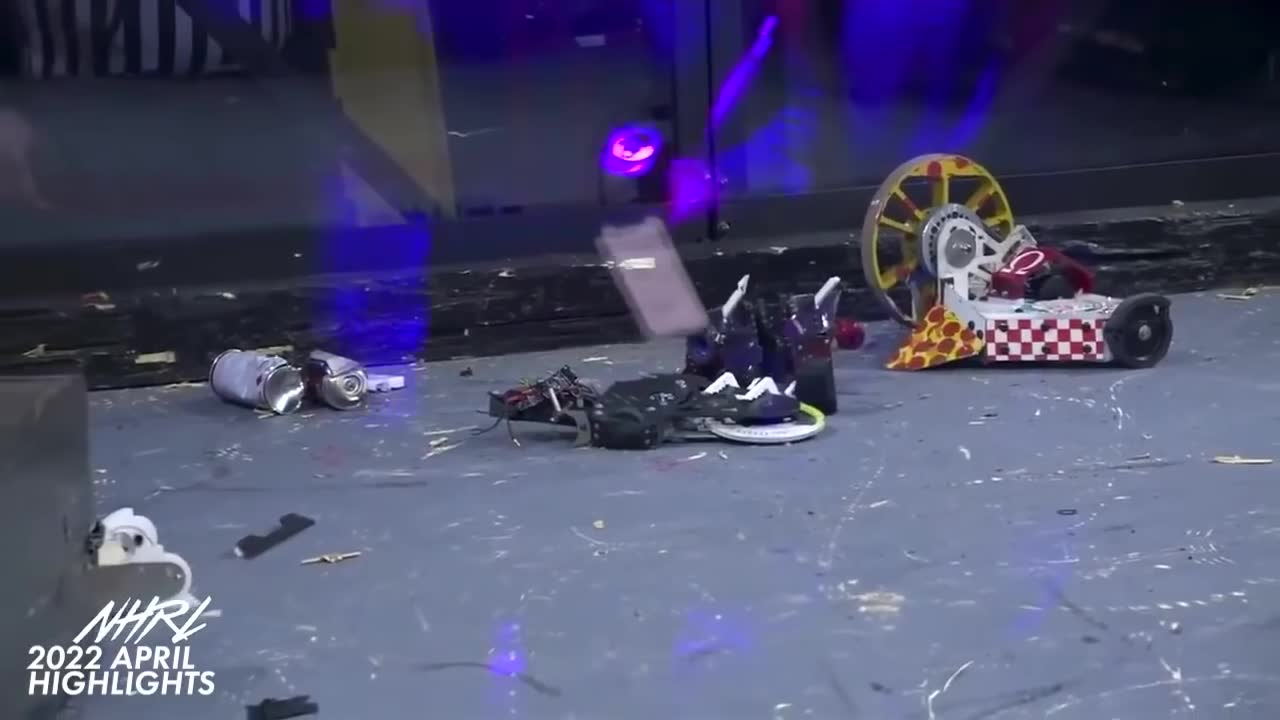combatbot: (861, 155, 1175, 376), (486, 366, 817, 451), (690, 274, 850, 361)
debris: (208, 337, 405, 422), (233, 513, 307, 563), (295, 551, 364, 563)
housebot: (8, 378, 93, 711)
